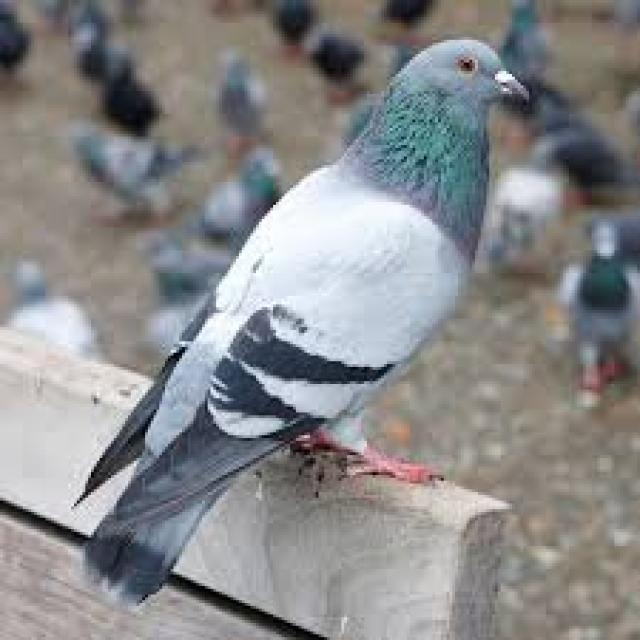Pigeon: (69, 35, 539, 600)
